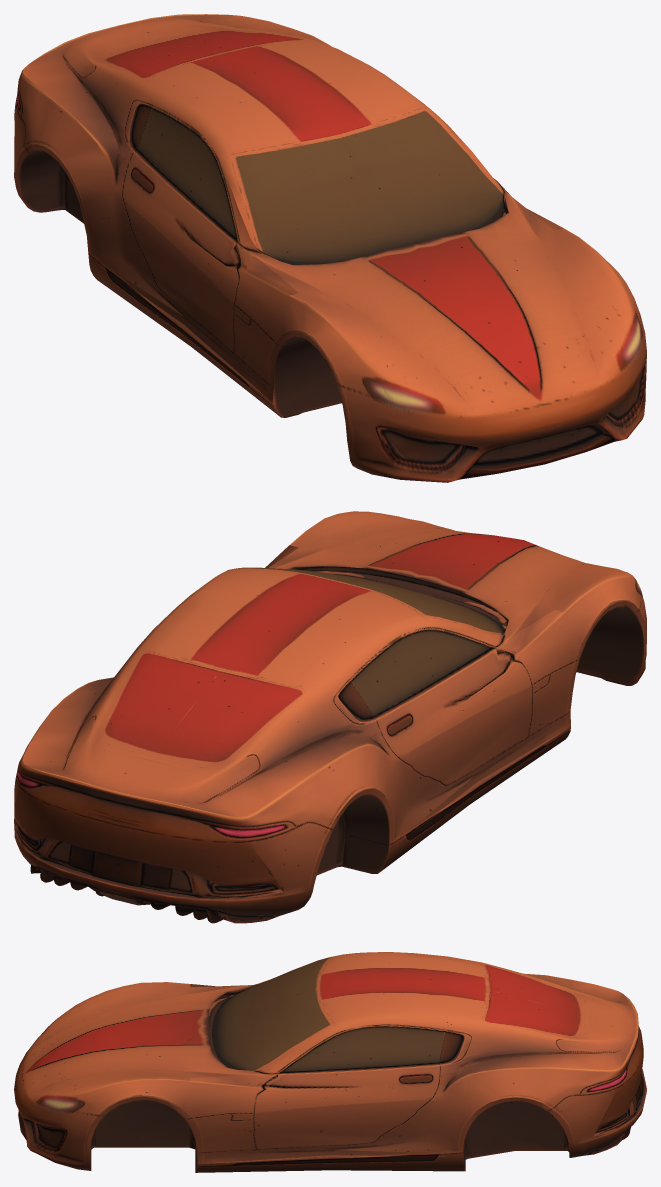
File: Car3.glb
The picture shows the model from 3 angles, top to bottom: view 1: azimuth 30°, elevation 25°; view 2: azimuth 150°, elevation 25°; view 3: azimuth 270°, elevation 25°; orthographic projection. The views are drawn at different scales.
Visible parts, largest first — view 1: part_0000.001; view 2: part_0000.001; view 3: part_0000.001.
Part boxes in pixels (x1,y1,x2,y2): part_0000.001: (14, 14, 646, 482); part_0000.001: (14, 511, 646, 923); part_0000.001: (14, 952, 646, 1172).
Size of the model in its own units: 1.85 by 1.14 by 4.57.
Materials: 1 (1 with a texture image).
